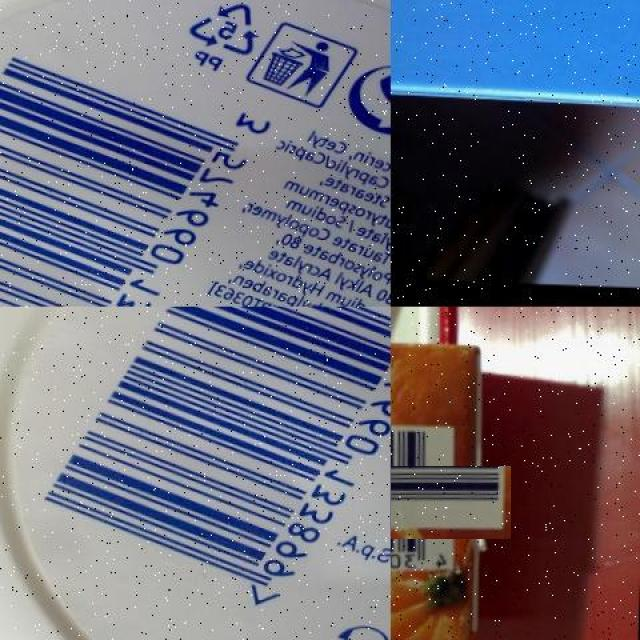Barcode: (32, 307, 391, 628), (0, 42, 283, 306), (368, 442, 488, 562)
